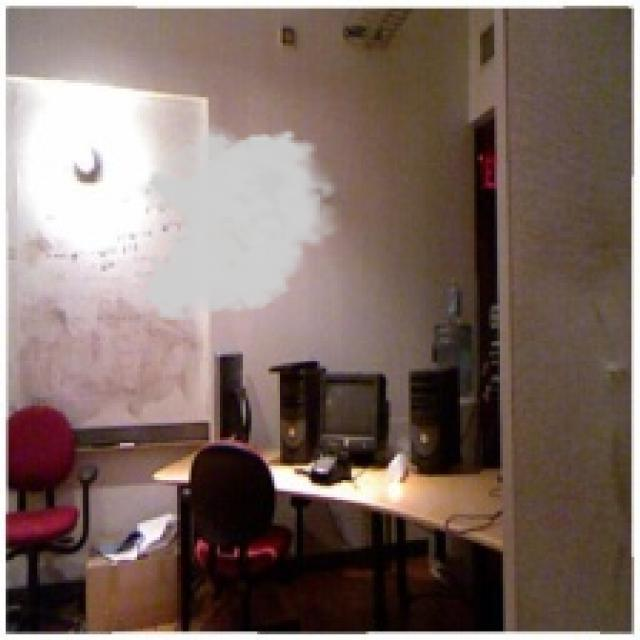Smoke: (134, 117, 346, 323)
